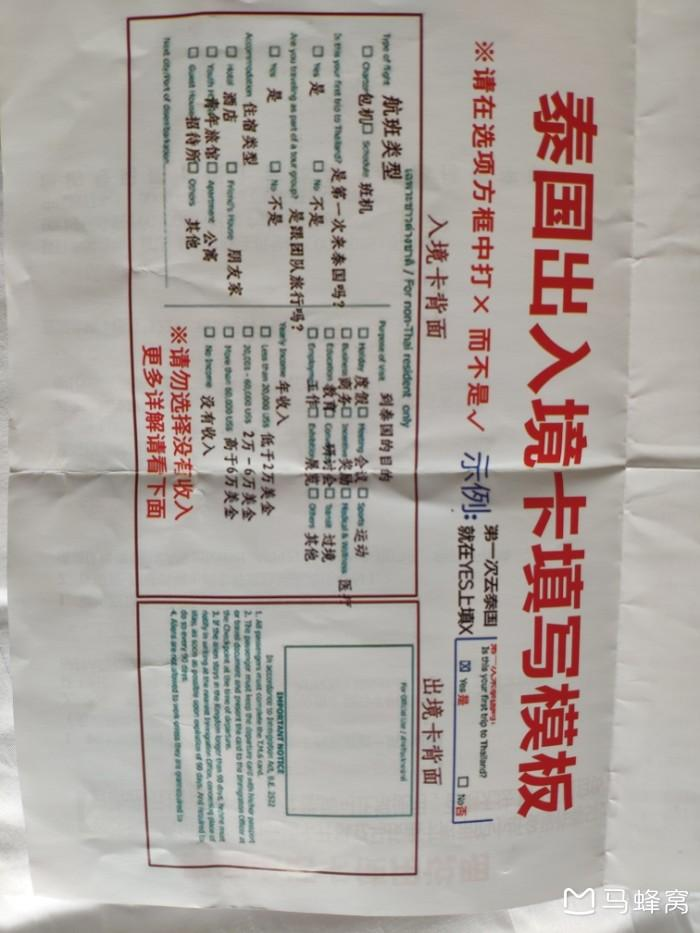paper: (0, 0, 645, 917)
